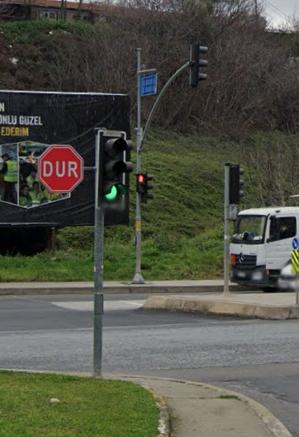greenlight: (98, 130, 124, 207)
stop: (38, 145, 81, 189)
